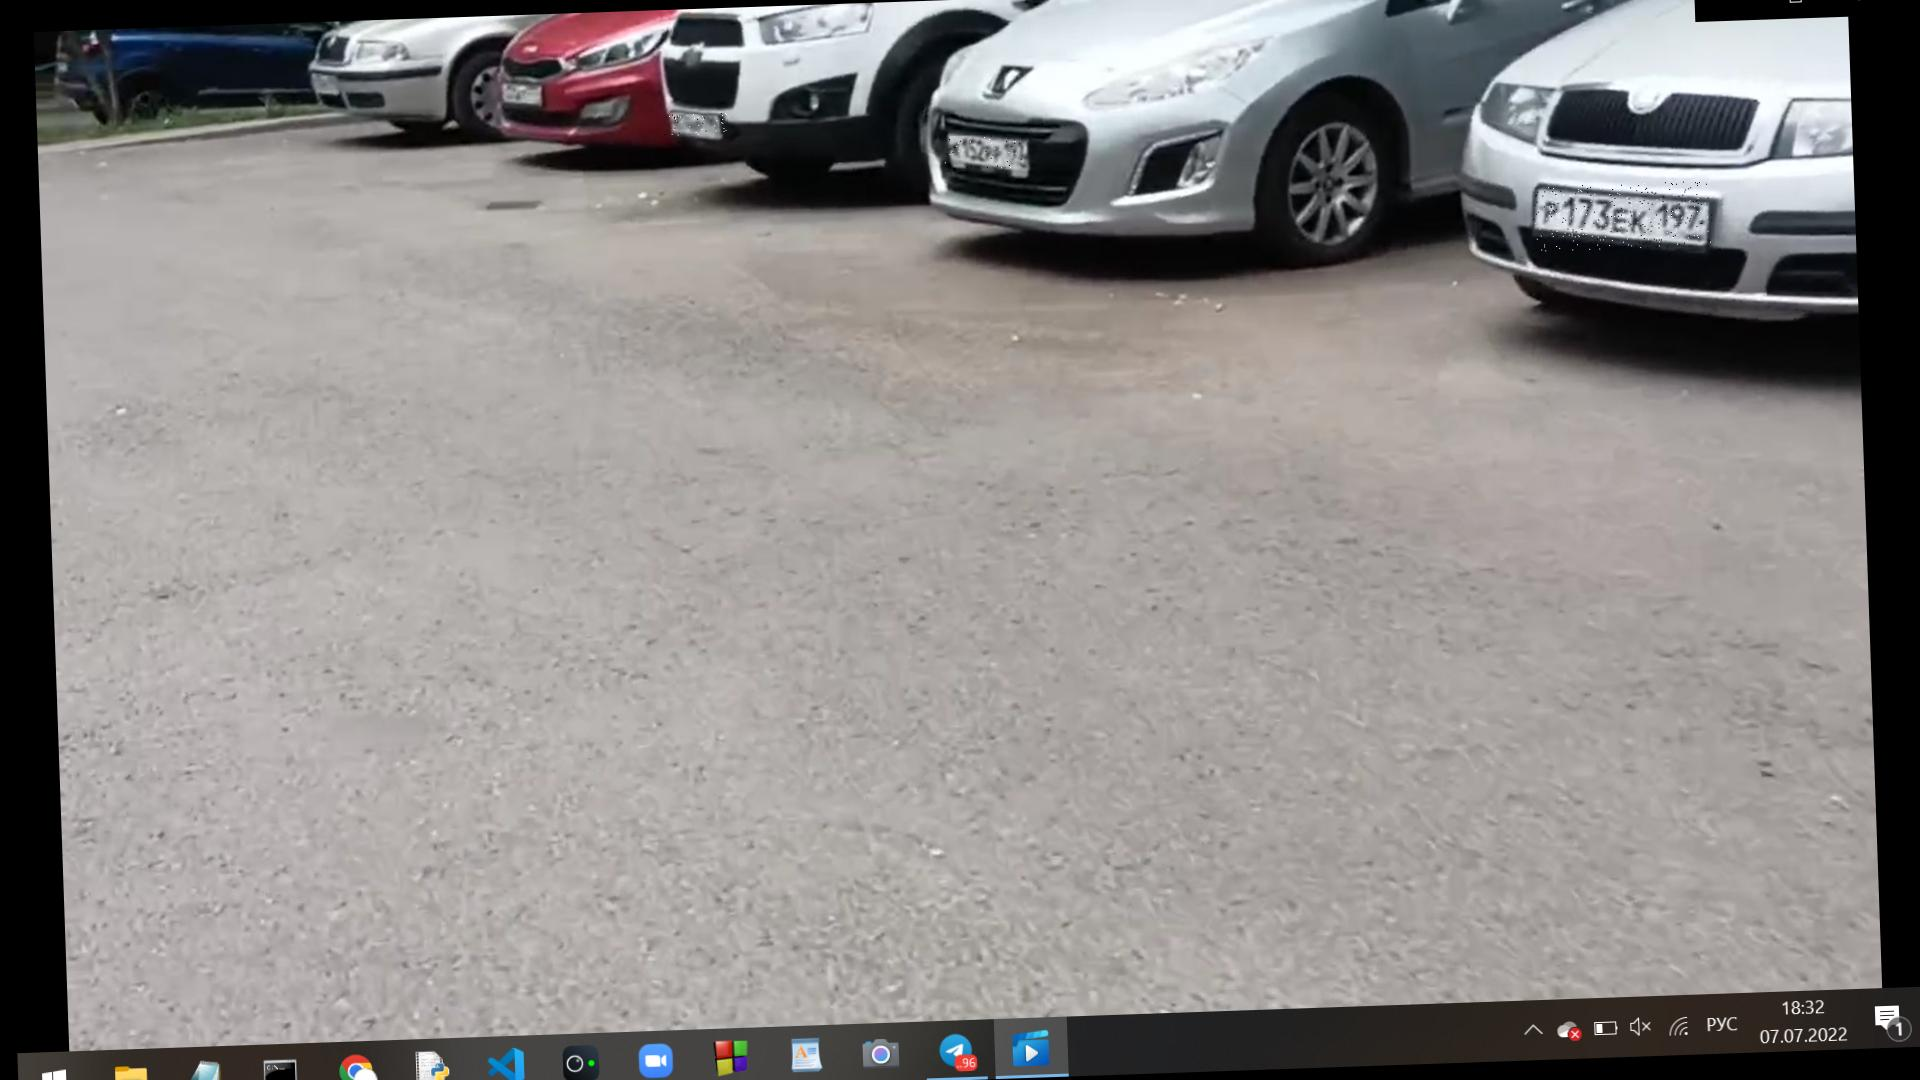plate: (1533, 182, 1715, 253), (945, 136, 1023, 172), (665, 115, 731, 138), (504, 84, 551, 108)
